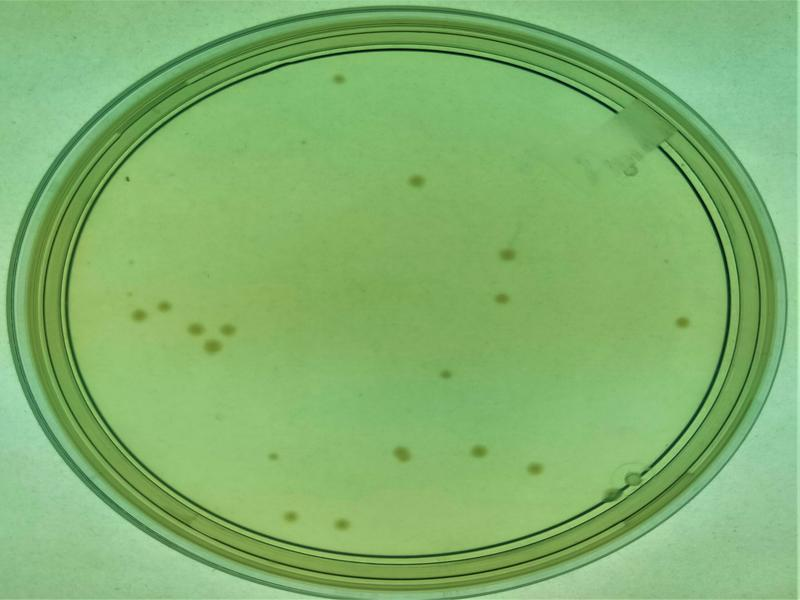colony: (486, 282, 517, 316), (667, 307, 699, 336), (461, 435, 493, 464), (395, 170, 433, 194), (520, 453, 552, 481), (327, 510, 359, 537), (324, 66, 358, 90), (121, 302, 152, 326), (492, 239, 521, 264), (151, 293, 177, 318), (432, 361, 458, 383)
